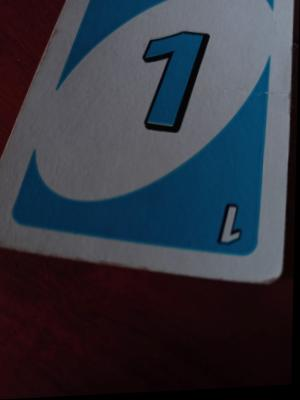num_1: (207, 192, 248, 257)
